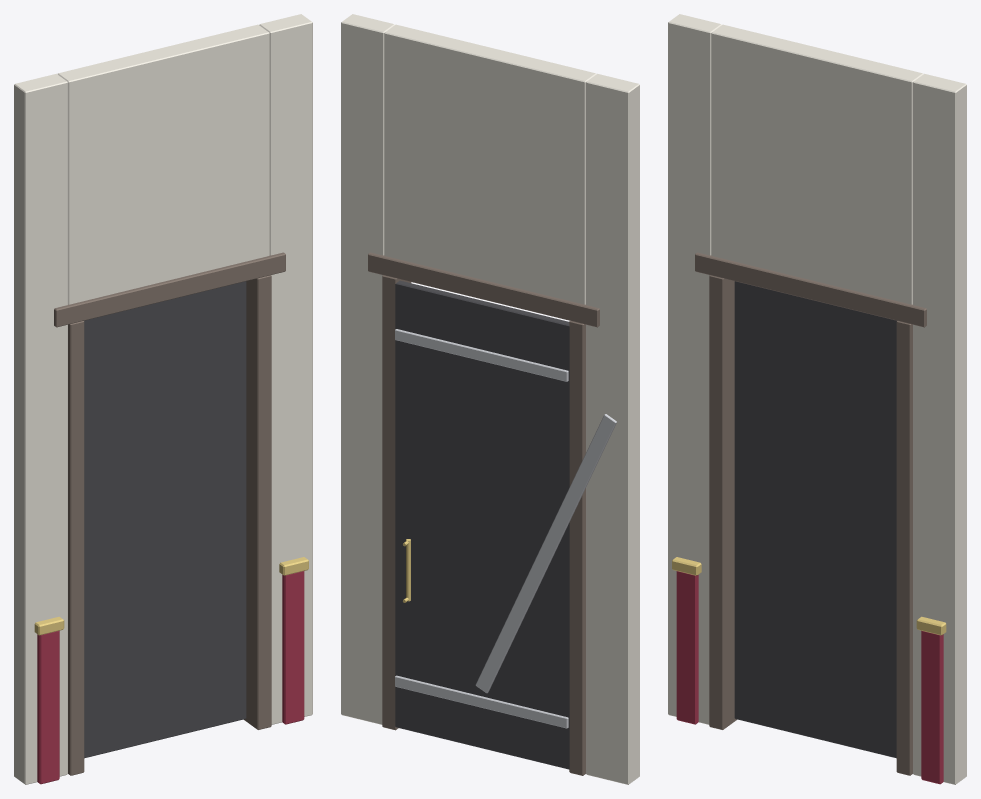
File: theatre-stage-and-backstage-scene-dock-door-module-490e11a3__35915.glb
3 renders of one model, left to right at view 1: azimuth 30°, elevation 25°; view 2: azimuth 150°, elevation 25°; view 3: azimuth 330°, elevation 25°, orthographic.
Visible parts, largest first — view 1: scene-dock-door-module_0, door-1, scene-dock-door-module_1, scene-dock-door-module_2, scene-dock-door-module_3; view 2: scene-dock-door-module_0, door-1, scene-dock-door-module_1, door-1/metal; view 3: scene-dock-door-module_0, door-1, scene-dock-door-module_1, scene-dock-door-module_2, scene-dock-door-module_3.
Boxes of the visible parts, x1,y1,x2,y2 form: scene-dock-door-module_0: (14, 14, 312, 784); door-1: (84, 281, 246, 758); scene-dock-door-module_1: (54, 252, 285, 775); scene-dock-door-module_2: (37, 571, 304, 784); scene-dock-door-module_3: (34, 557, 308, 635); scene-dock-door-module_0: (341, 14, 639, 784); door-1: (395, 280, 569, 769); scene-dock-door-module_1: (368, 252, 599, 775); door-1/metal: (395, 329, 616, 728); scene-dock-door-module_0: (668, 14, 966, 784); door-1: (734, 281, 896, 758); scene-dock-door-module_1: (695, 252, 926, 775); scene-dock-door-module_2: (676, 571, 943, 784); scene-dock-door-module_3: (672, 557, 946, 635).
Bounding box in the file's own units: 2 × 4.6 × 0.3.
